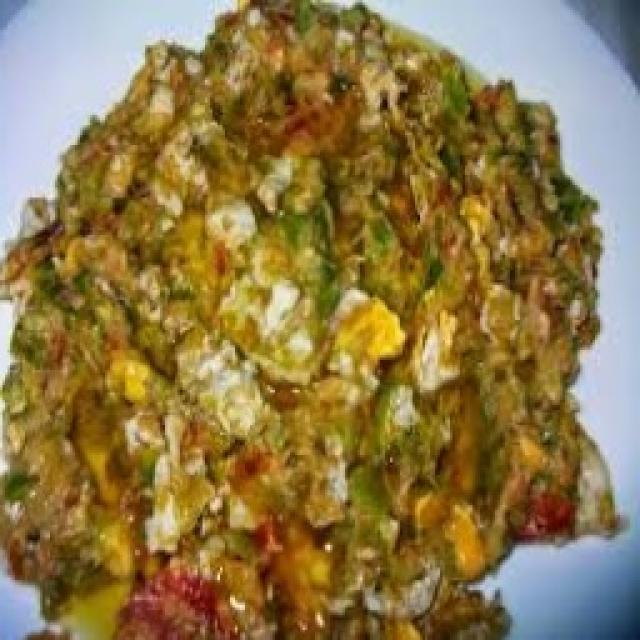Kafteji: (0, 0, 616, 640)
